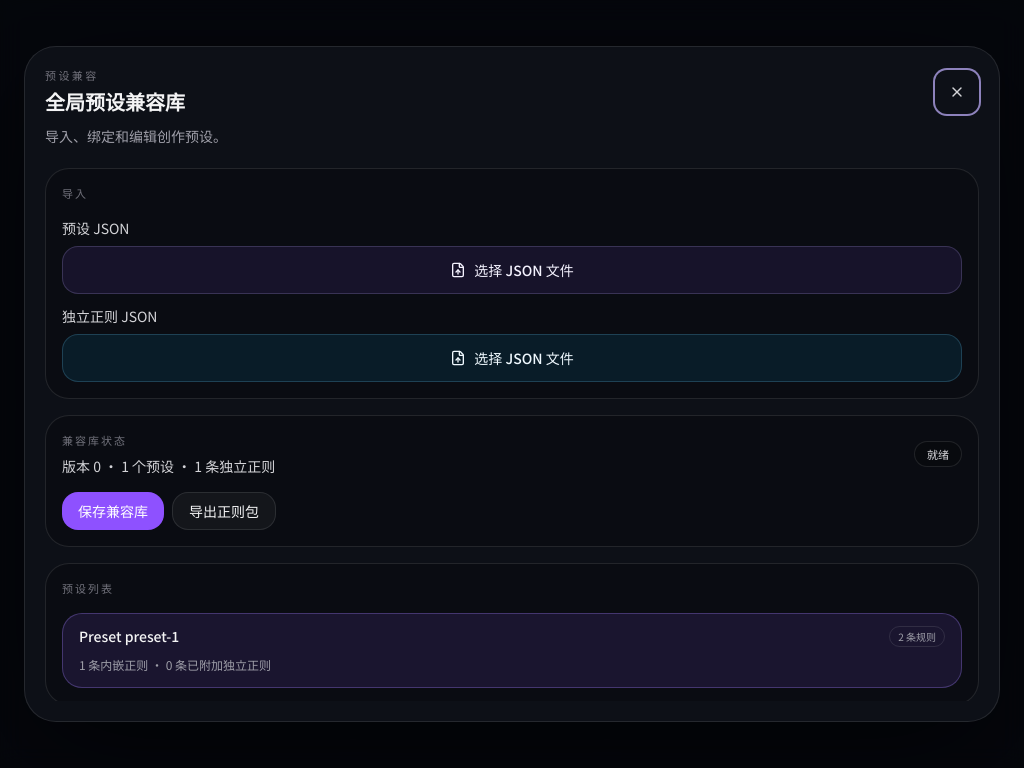
Test case: PresetCompatLibraryModal › sanitizes unknown preset save diagnostics in the primary modal error surface
Click the button "保存兼容库".
click(113, 511)  # box top-left (62, 492), bottom-right (164, 530)
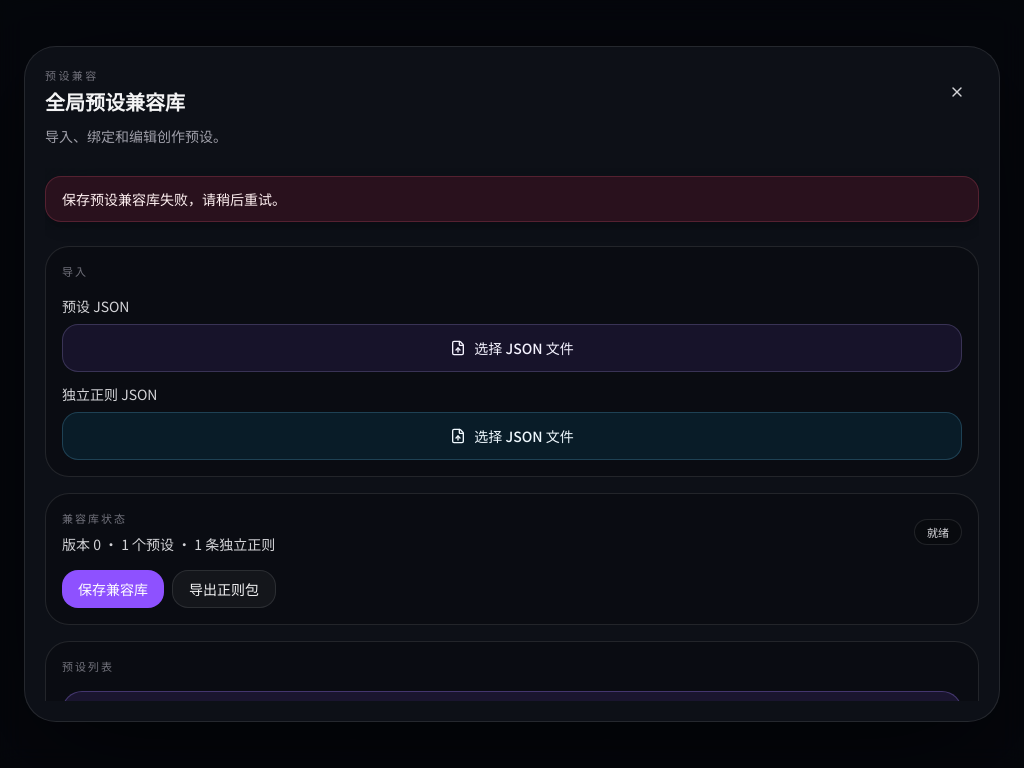
Expected: the text "保存预设兼容库失败，请稍后重试。" is shown, top-left (45, 176), bottom-right (979, 222)
